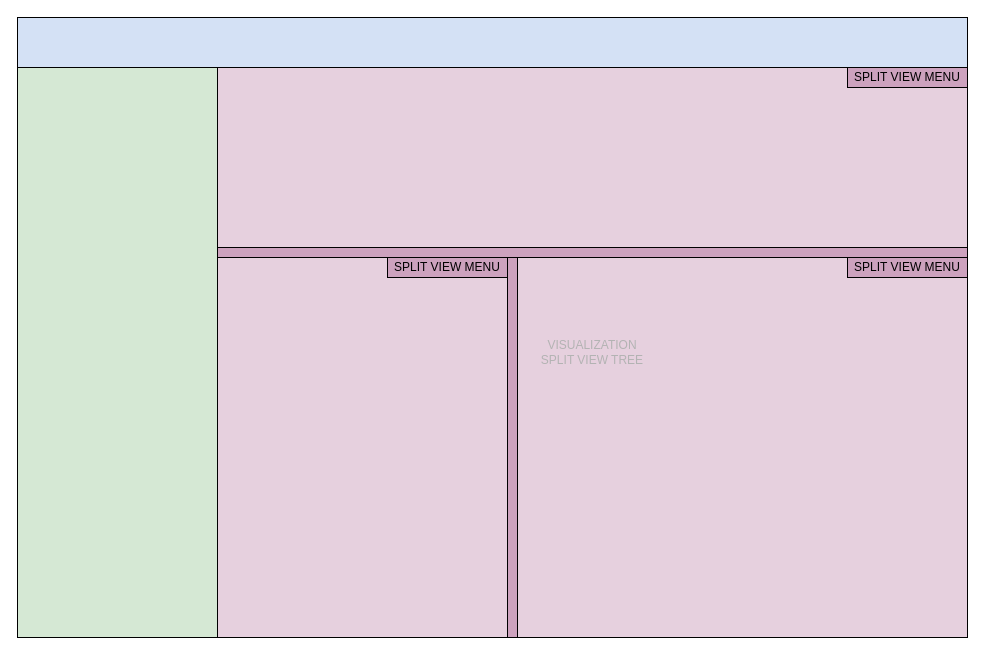
The diagram is 985 pixels wide and 655 high, and some of its shapes have lost their labels. Each missing label, with the centre of its shape:
"GOBAL MENU" belongs at [492,42].
"VISUALIZATION MENU SIDE BAR" belongs at [117,352].
